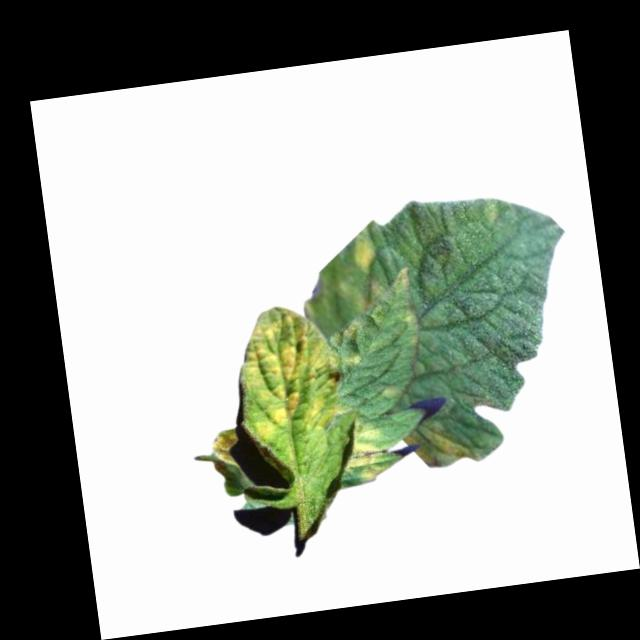Leaf_Mold: (225, 297, 349, 444), (338, 413, 397, 486), (404, 416, 477, 473), (351, 230, 380, 270), (392, 264, 414, 293), (339, 316, 363, 340), (381, 380, 404, 402)
